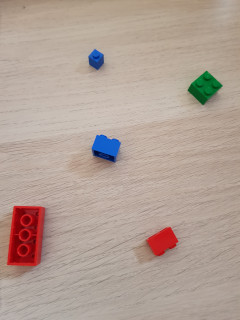1x1 blue: (86, 48, 105, 71)
1x2 red: (143, 225, 181, 259)
2x2 blue: (92, 135, 122, 161)
2x2 green: (187, 70, 223, 105)
2x4 red: (3, 204, 48, 268)
